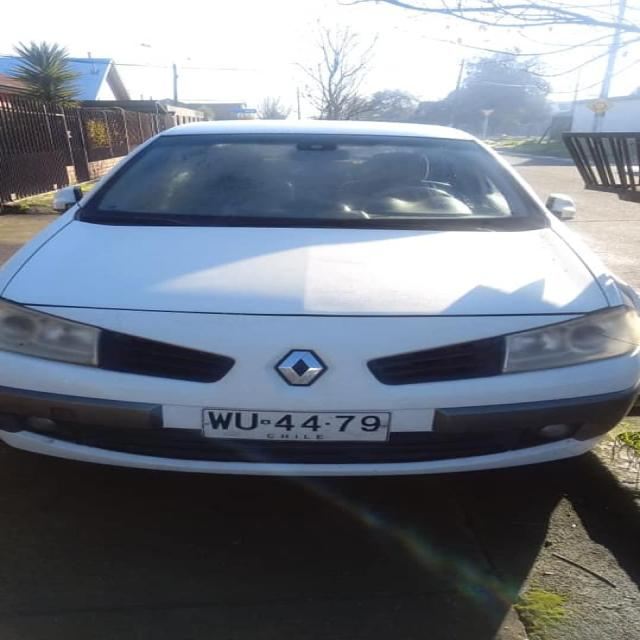patente: (197, 407, 392, 443)
